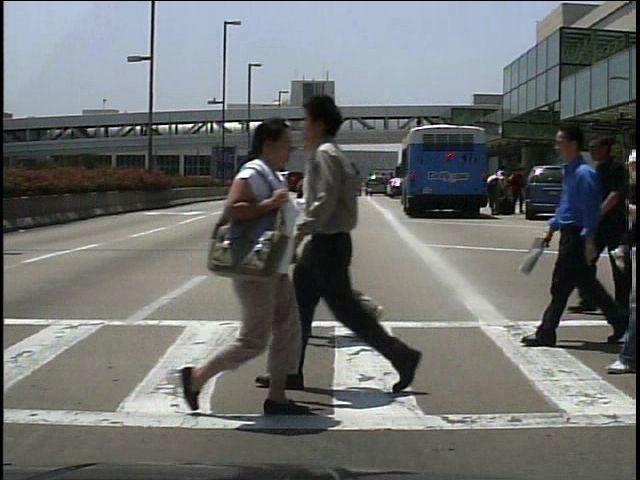person: (290, 92, 435, 406), (182, 114, 315, 419), (272, 118, 397, 353), (526, 114, 629, 348), (582, 168, 602, 218), (486, 162, 504, 214), (508, 166, 526, 216)
